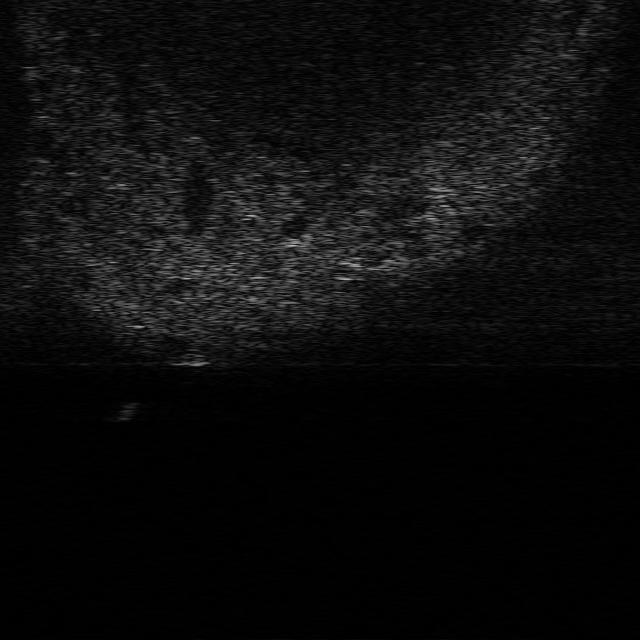cylinder: (115, 400, 141, 424)
